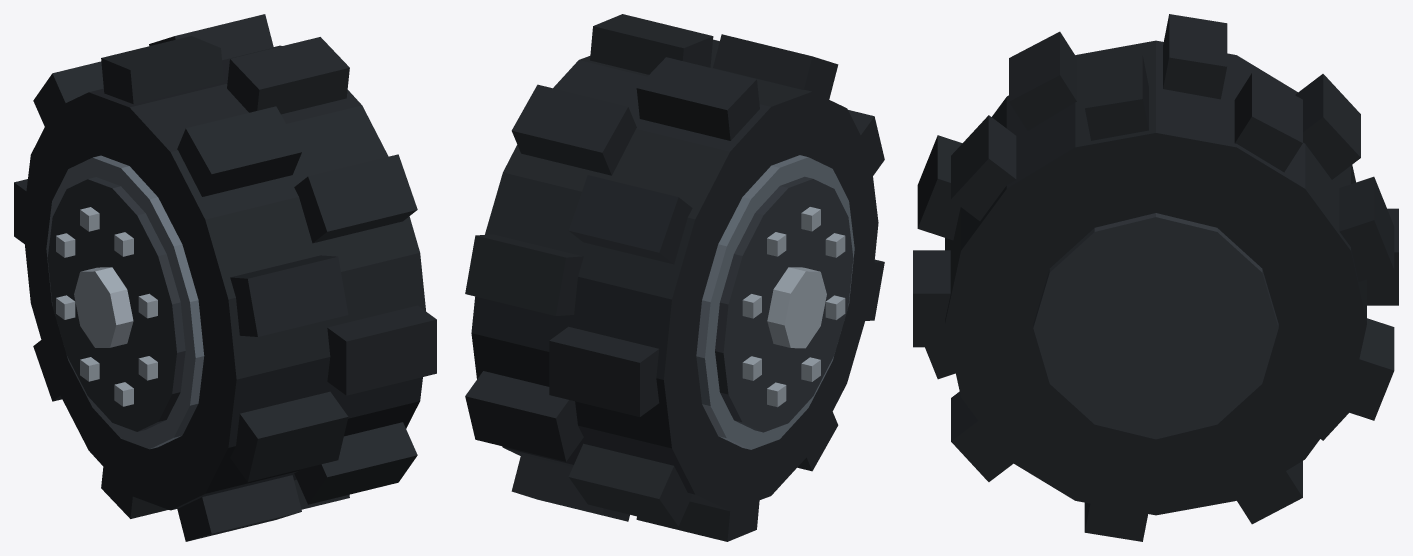
Rendered from veh_atv_wheel.fbx.
3 renders of one model, left to right at view 1: azimuth 30°, elevation 25°; view 2: azimuth 150°, elevation 25°; view 3: azimuth 270°, elevation 25°, orthographic.
Parts seen in each view (by area): view 1: veh_atv_wheel; view 2: veh_atv_wheel; view 3: veh_atv_wheel.
Boxes of the visible parts, x1,y1,x2,y2 form: veh_atv_wheel: (14,14,436,541); veh_atv_wheel: (465,14,884,541); veh_atv_wheel: (913,14,1398,541).
Bounding box in the file's own units: 109 × 199 × 198.
